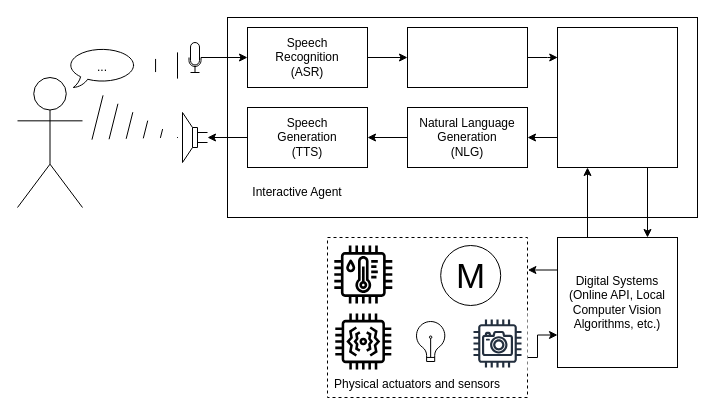
This 715x417 diagram has some shape labels left out. Each missing label, with the centre of its shape:
"Dialog Manager" goes at point 617,97.
"Natural Language Understanding (NLU)" goes at point 467,57.
"User" goes at point 49,142.
